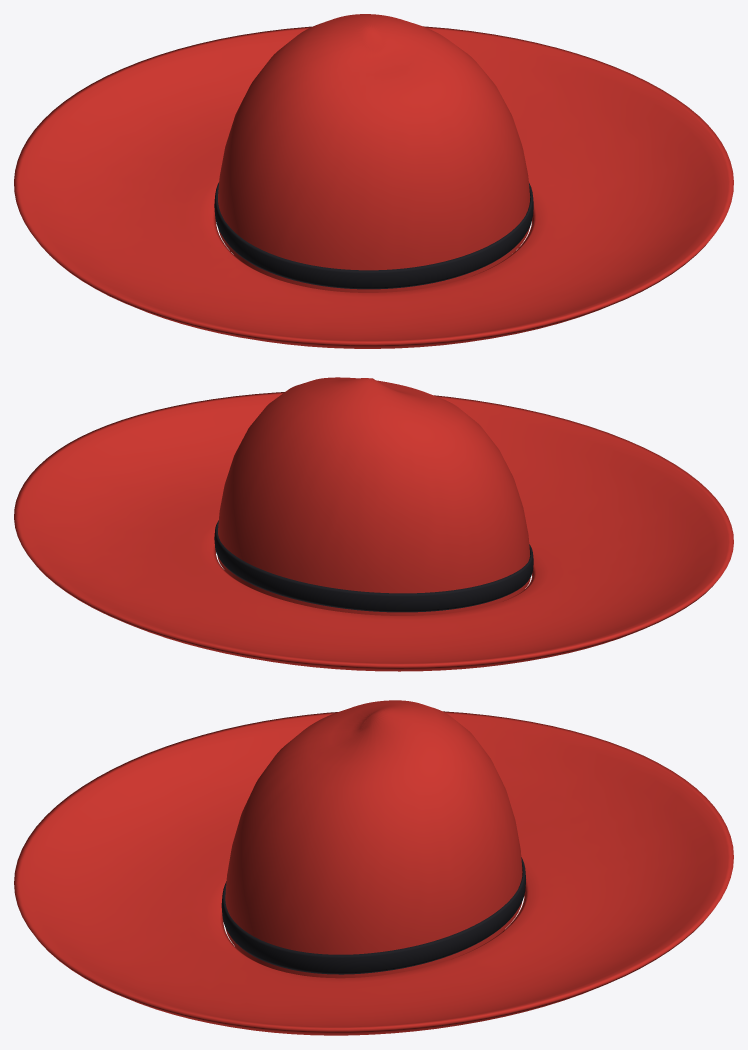
File: hw_sombrero.glb
The picture shows the model from 3 angles, top to bottom: view 1: azimuth 30°, elevation 25°; view 2: azimuth 150°, elevation 25°; view 3: azimuth 270°, elevation 25°; orthographic projection. The views are drawn at different scales.
Visible parts, largest first — view 1: hw_sombrero_brim, hw_sombrero, hw_sombrero_band; view 2: hw_sombrero_brim, hw_sombrero, hw_sombrero_band; view 3: hw_sombrero_brim, hw_sombrero, hw_sombrero_band.
Boxes of the visible parts, x1,y1,x2,y2 form: hw_sombrero_brim: [14, 26, 733, 348]; hw_sombrero: [218, 14, 530, 292]; hw_sombrero_band: [214, 182, 533, 289]; hw_sombrero_brim: [14, 392, 733, 671]; hw_sombrero: [217, 377, 530, 615]; hw_sombrero_band: [214, 520, 533, 612]; hw_sombrero_brim: [14, 711, 733, 1035]; hw_sombrero: [225, 700, 522, 978]; hw_sombrero_band: [221, 857, 525, 974].
Size of the model in its own units: 1.84 by 0.573 by 1.76.
